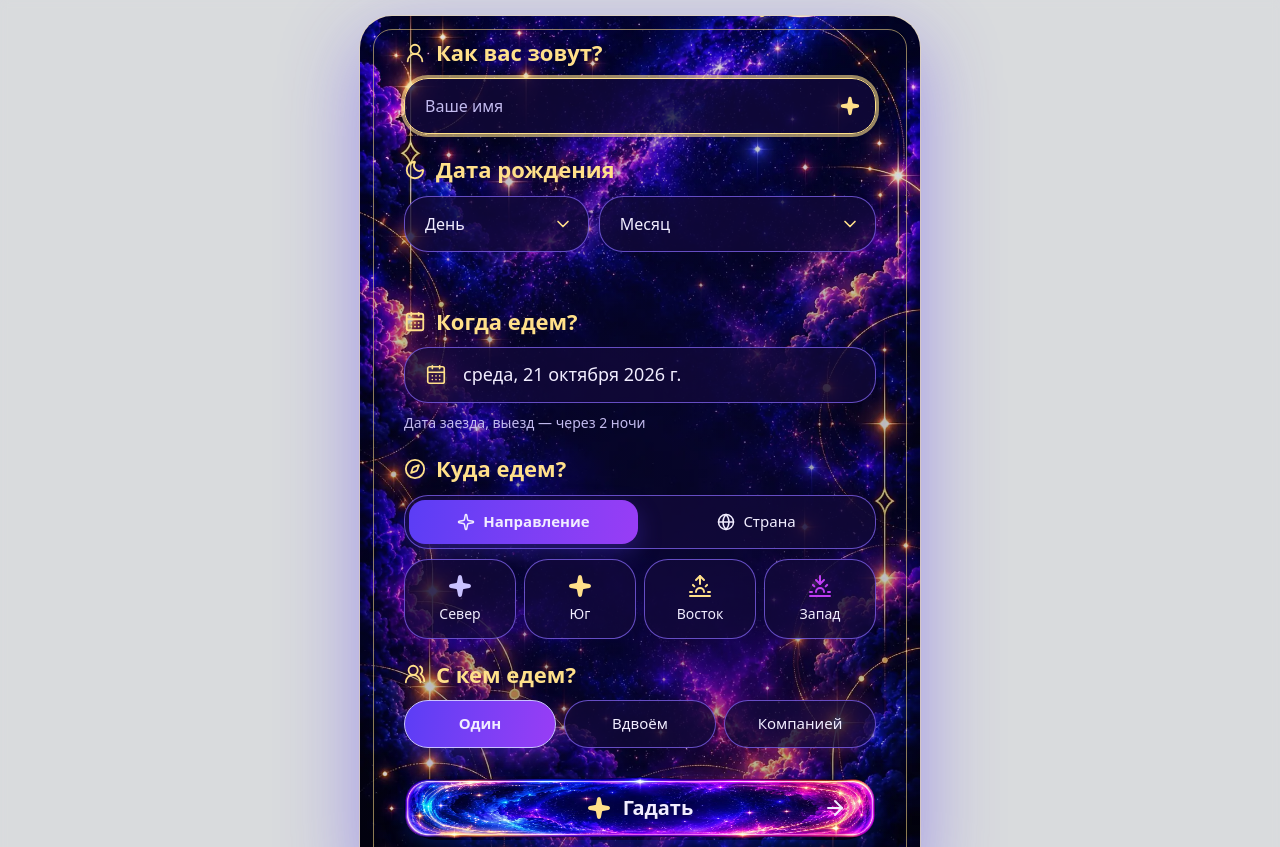
StarSearch form › asks for the companion sign only for a pair
The width and height of the screenshot is (1280, 847).
(page scrolled)
Expected: the dropdown labelled "Знак спутника" is not shown
Click the radio button labelled "Вдвоём". click: click(640, 724)
box: [564, 700, 716, 748]
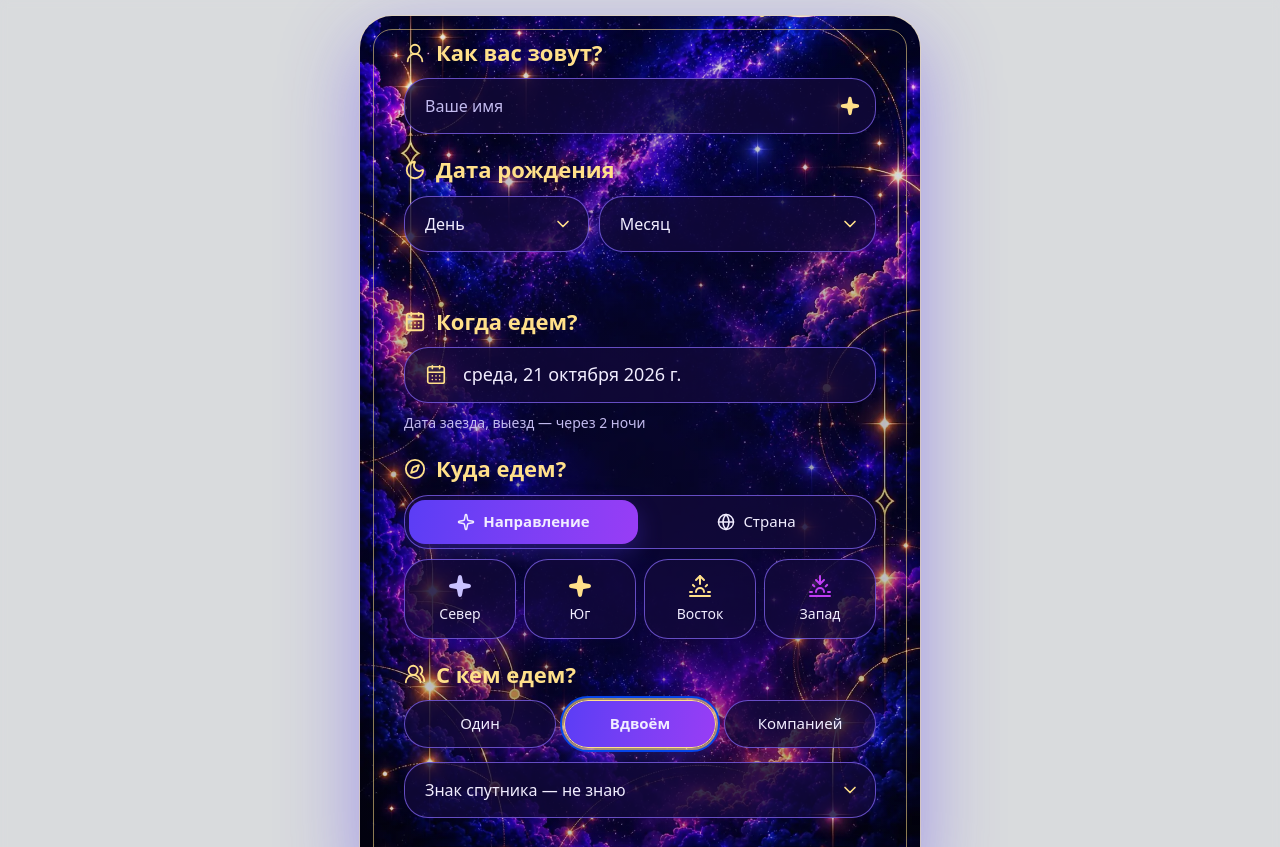
Result: the dropdown named "Знак спутника" is shown at [404, 762, 876, 818]
